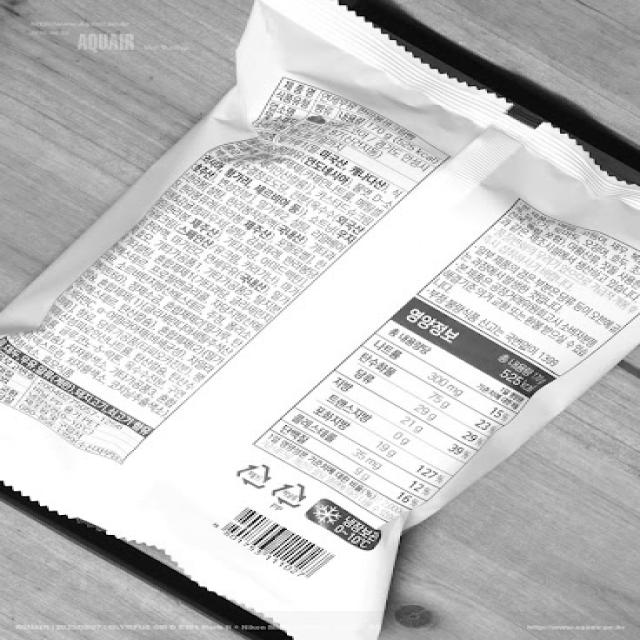Nutrition Label: (240, 288, 571, 533)
